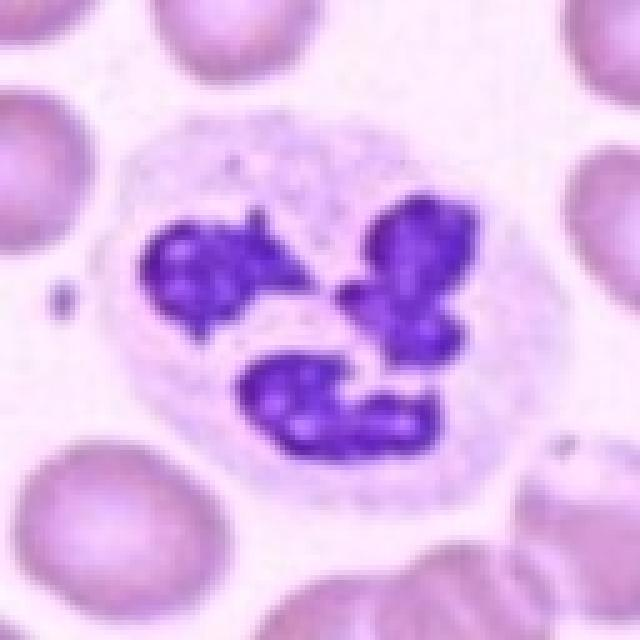neutro: (143, 124, 537, 529)
